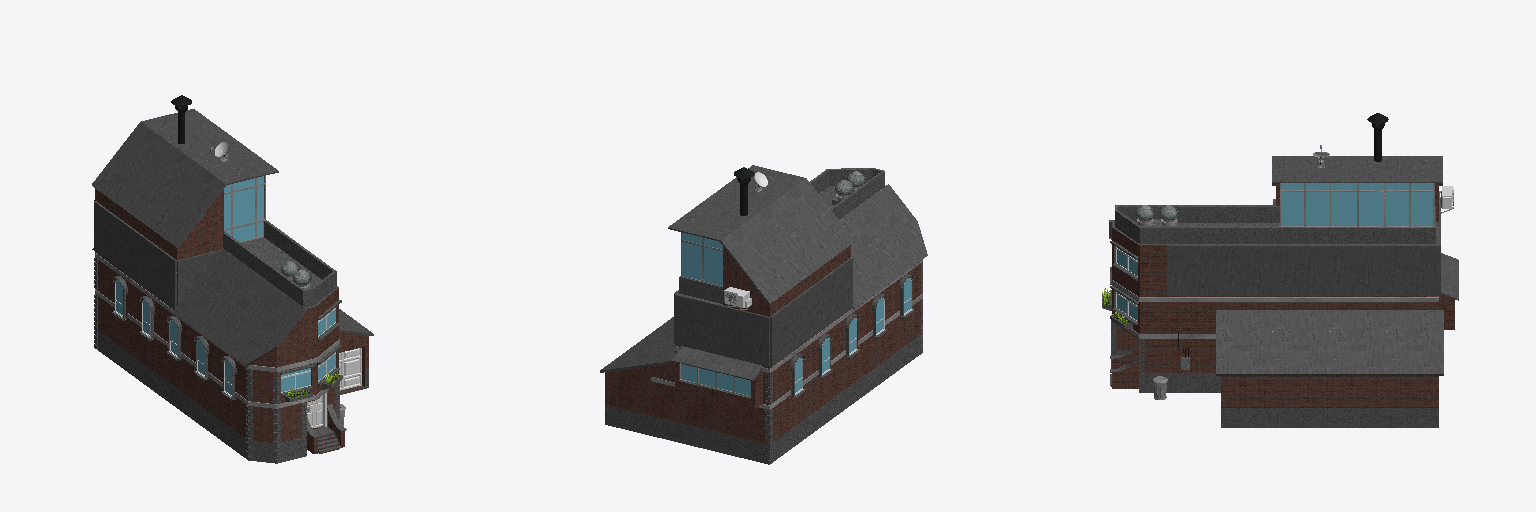
The picture shows the model from 3 angles: view 1: azimuth 30°, elevation 25°; view 2: azimuth 150°, elevation 25°; view 3: azimuth 270°, elevation 25°; orthographic projection.
Visible parts, largest first — view 1: Building_Small_DownTown13_Building_Small_DownTown13_Mesh; view 2: Building_Small_DownTown13_Building_Small_DownTown13_Mesh; view 3: Building_Small_DownTown13_Building_Small_DownTown13_Mesh.
Part boxes in pixels (x1,y1,x2,y2): Building_Small_DownTown13_Building_Small_DownTown13_Mesh: (92,95,373,463); Building_Small_DownTown13_Building_Small_DownTown13_Mesh: (600,165,927,464); Building_Small_DownTown13_Building_Small_DownTown13_Mesh: (1102,113,1458,427).
Size of the model in its own units: 10.98 by 15.97 by 19.78.
11 materials, 9 textured.